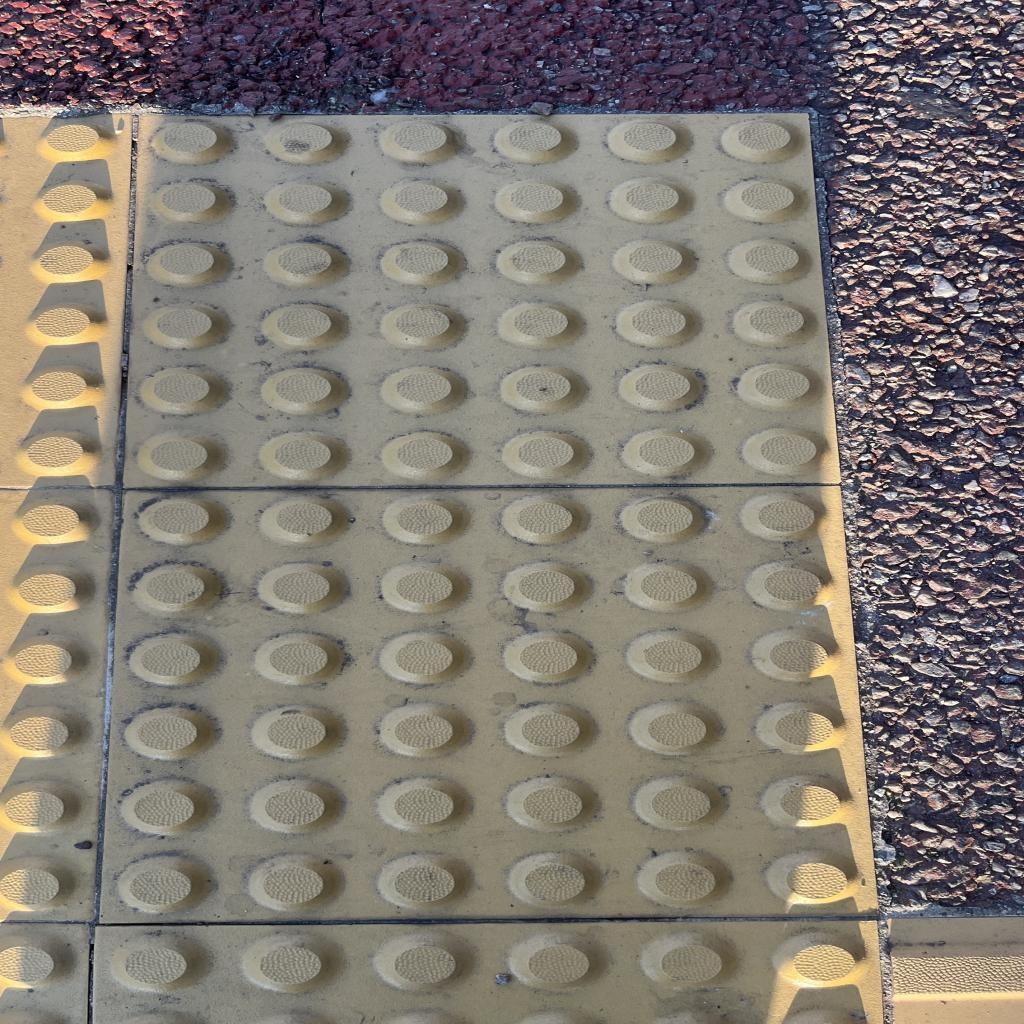Stop block normal: (122, 492, 842, 912)
